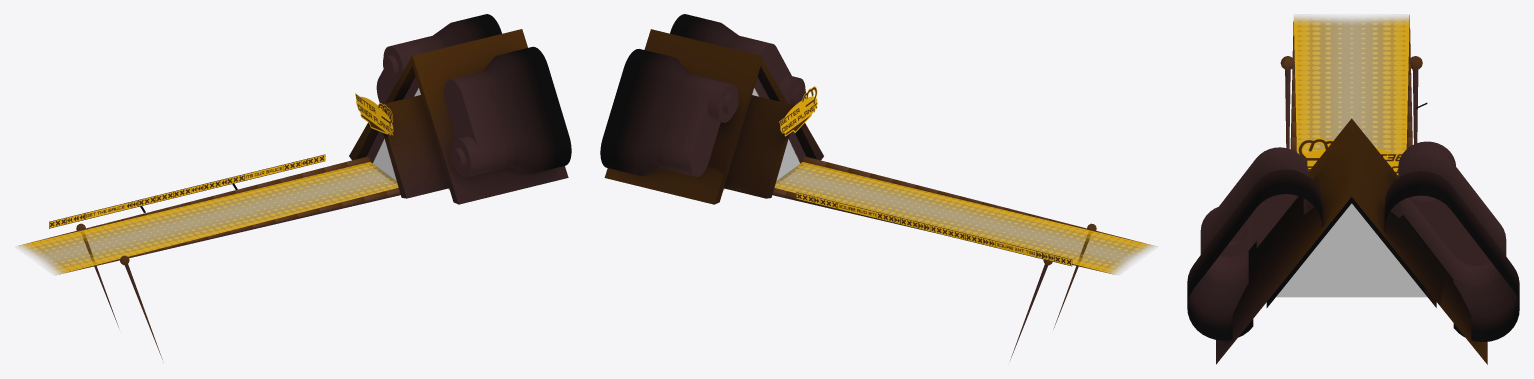
File: terrainBase.glb
3 views of the same model, side by side, from view 1: azimuth 30°, elevation 25°; view 2: azimuth 150°, elevation 25°; view 3: azimuth 270°, elevation 25° (orthographic). The views are drawn at different scales.
Visible parts, largest first — view 1: Cylinder.001, Plane.010, Plane.007, Plane.009; view 2: Cylinder.001, Plane.010, Plane.007, Plane.009; view 3: Cylinder.001, Plane.010, Plane.009.
Boxes of the visible parts, box(x1,y1,x2,y2) form: Cylinder.001: box(349, 14, 571, 204); Plane.010: box(18, 156, 400, 359); Plane.007: box(49, 154, 325, 228); Plane.009: box(355, 93, 393, 135); Cylinder.001: box(600, 14, 823, 204); Plane.010: box(772, 156, 1157, 360); Plane.007: box(796, 192, 1072, 266); Plane.009: box(779, 86, 817, 136); Cylinder.001: box(1187, 118, 1519, 364); Plane.010: box(1280, 15, 1422, 175); Plane.009: box(1297, 138, 1402, 174).
Size of the model in its own units: 14.2 by 6.32 by 5.73.
Materials: 4 (4 with a texture image).
